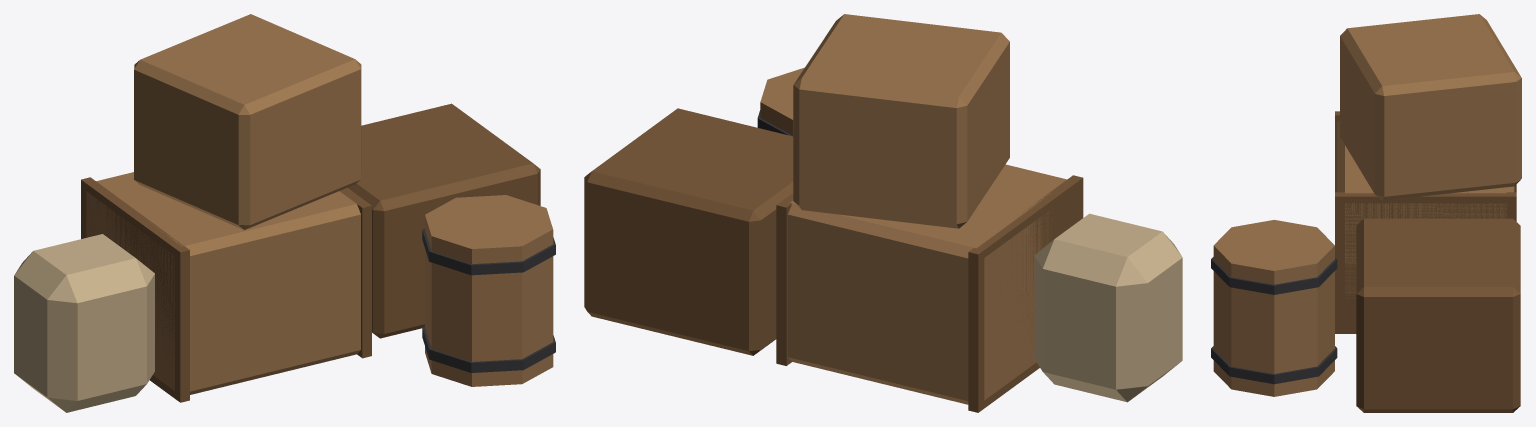
The model's file is crate_stack.glb.
The picture shows the model from 3 angles, left to right: view 1: azimuth 30°, elevation 25°; view 2: azimuth 150°, elevation 25°; view 3: azimuth 270°, elevation 25°; orthographic projection. The views are drawn at different scales.
Visible parts, largest first — view 1: crate_stack; view 2: crate_stack; view 3: crate_stack.
Boxes of the visible parts, x1,y1,x2,y2 form: crate_stack: [14, 14, 555, 412]; crate_stack: [584, 14, 1182, 412]; crate_stack: [1211, 14, 1521, 412].
Size of the model in its own units: 2.05 by 1.11 by 1.23.
